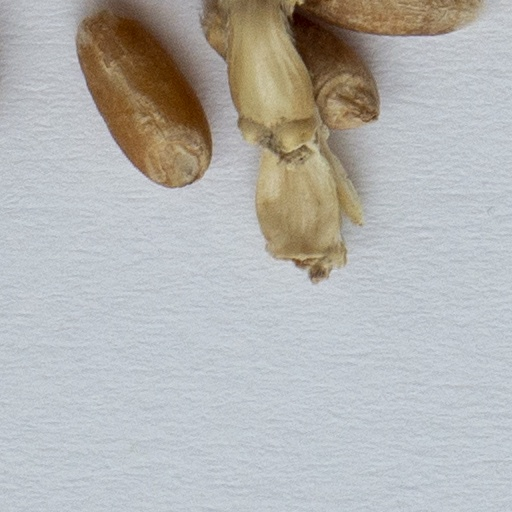Peel-poly: (207, 0, 364, 279)
